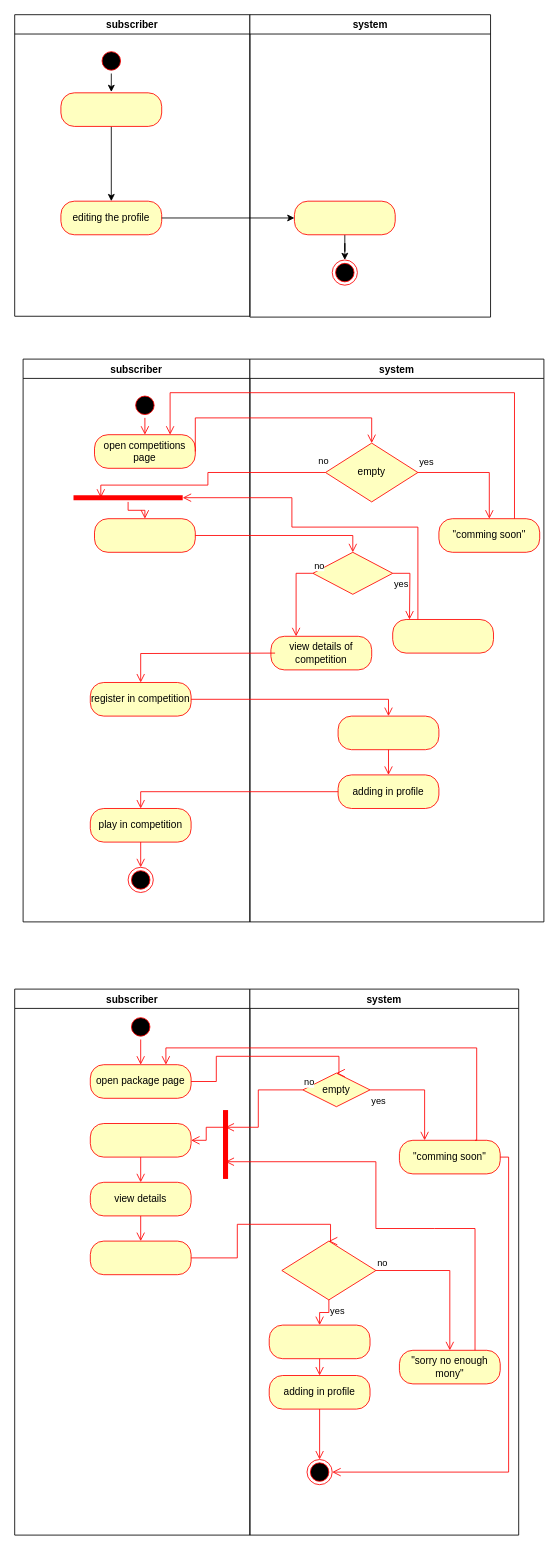
Image size: 559x1550. Some labels were removed from this diagram. The centre of each missing label's shape, as x and y in pixels:
"complete": (x=443, y=636)
buy package: (x=140, y=1257)
choose competition: (x=144, y=535)
choose package: (x=140, y=1140)
click on edit profile: (x=111, y=109)
comfirmation message: (x=319, y=1341)
complete: (x=352, y=572)
confirmation message: (x=388, y=732)
have enough mony: (x=328, y=1270)
saves the modifications: (x=344, y=217)
